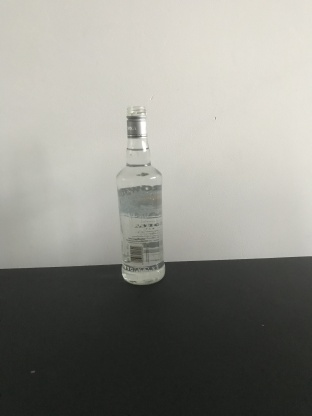nakretka: (124, 105, 148, 139)
